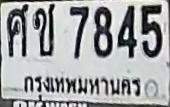4: (117, 4, 136, 57)
5: (140, 4, 161, 57)
7: (69, 5, 89, 58)
8: (93, 6, 112, 57)
A10: (32, 3, 54, 56)
A38: (6, 4, 29, 56)
BKK: (21, 74, 142, 98)
